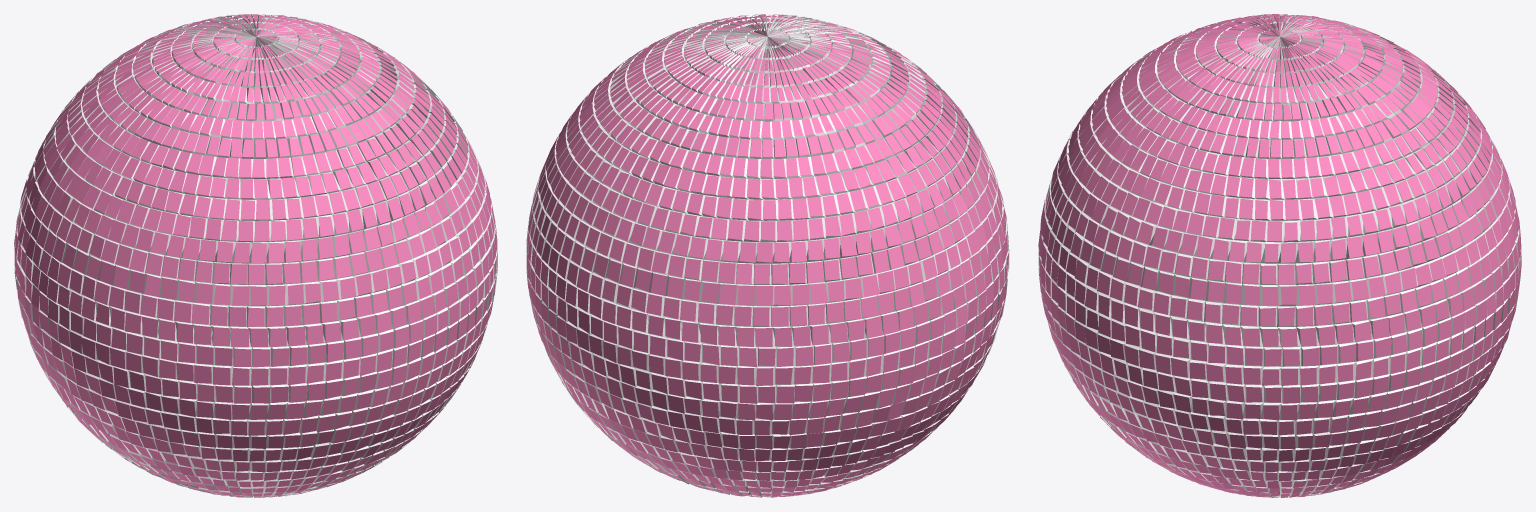
File: disco.fbx
3 views of the same model, side by side, from view 1: azimuth 30°, elevation 25°; view 2: azimuth 150°, elevation 25°; view 3: azimuth 270°, elevation 25° (orthographic).
Visible parts, largest first — view 1: pSphere3; view 2: pSphere3; view 3: pSphere3.
Part boxes in pixels (<box>): pSphere3: <box>14,14,497,497</box>; pSphere3: <box>526,14,1009,497</box>; pSphere3: <box>1038,14,1521,497</box>.
Bounding box in the file's own units: 2.02 × 2.02 × 2.02.
